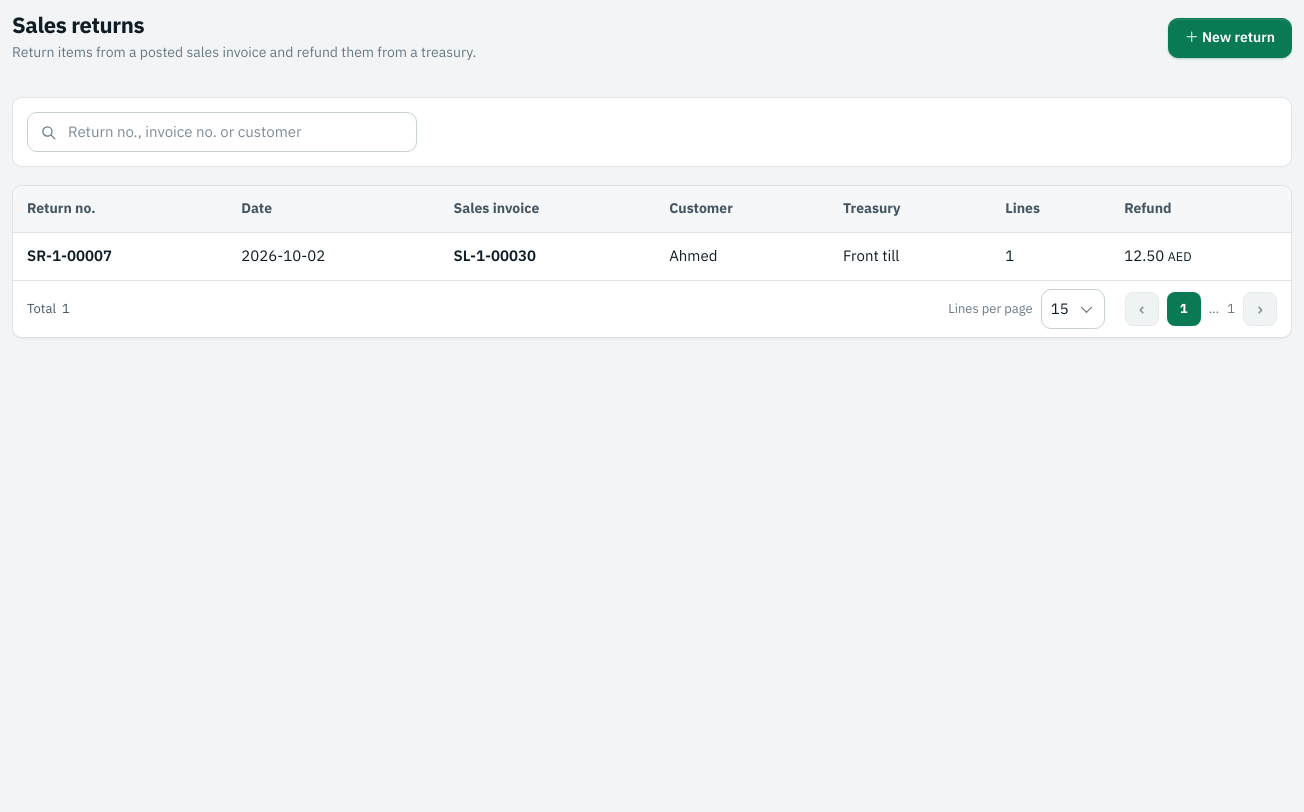
SalesReturnsPage › only offers treasuries in the invoice currency
The width and height of the screenshot is (1304, 812).
Click the button "＋ New return" at (1230, 38), box [1168,18,1292,58]
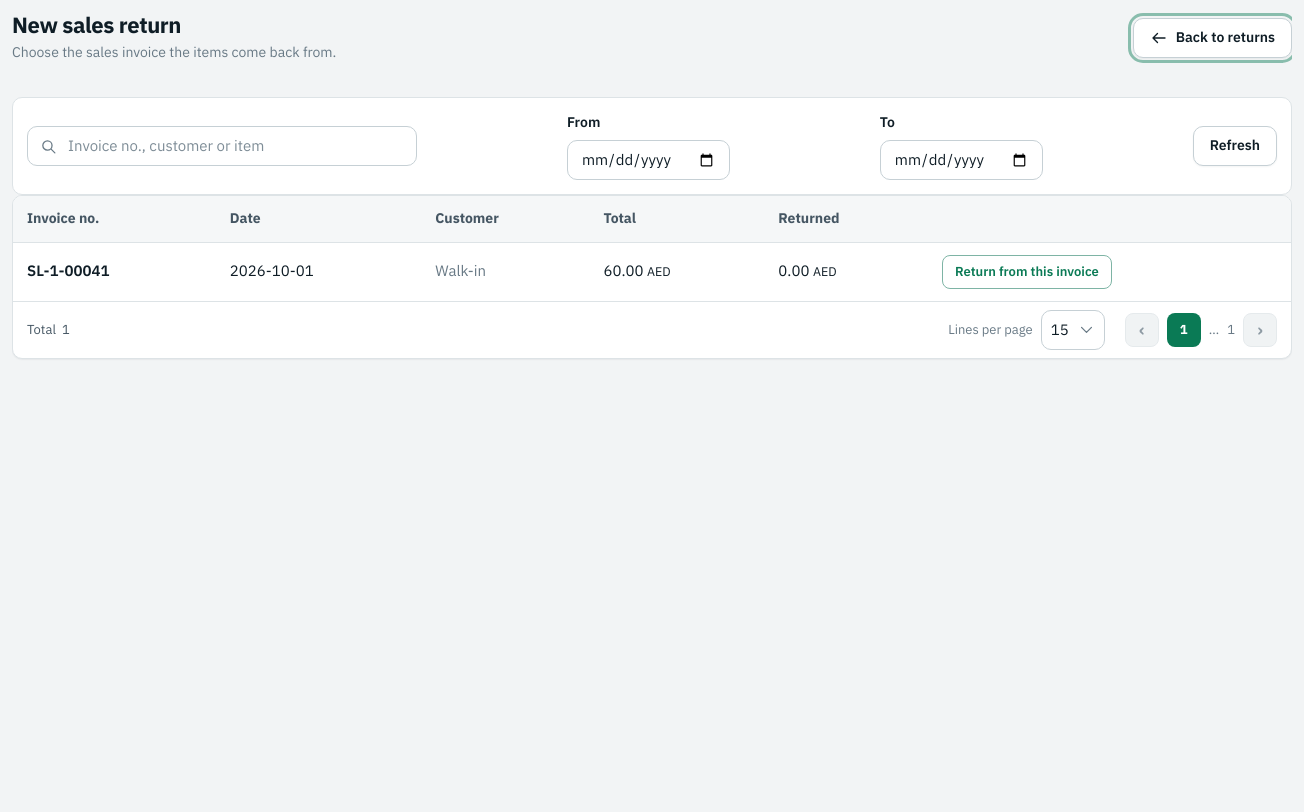
Click the button "Return from this invoice" at (1027, 272), box [942,255,1112,289]
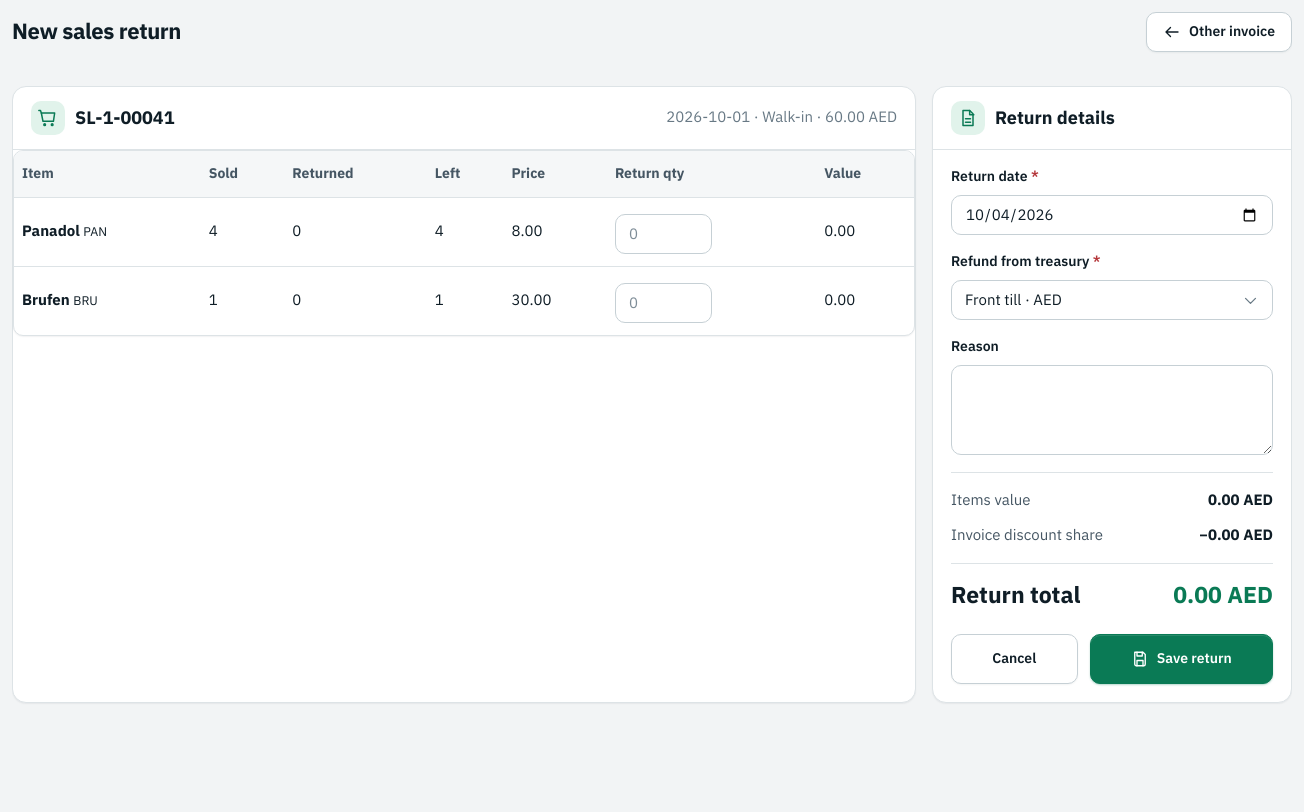
Expected: the heading "SL-1-00041" is shown, [75,104,174,132]
Click the button with aria-label "Refund from treasury" at (993, 300), box [951,280,1273,320]
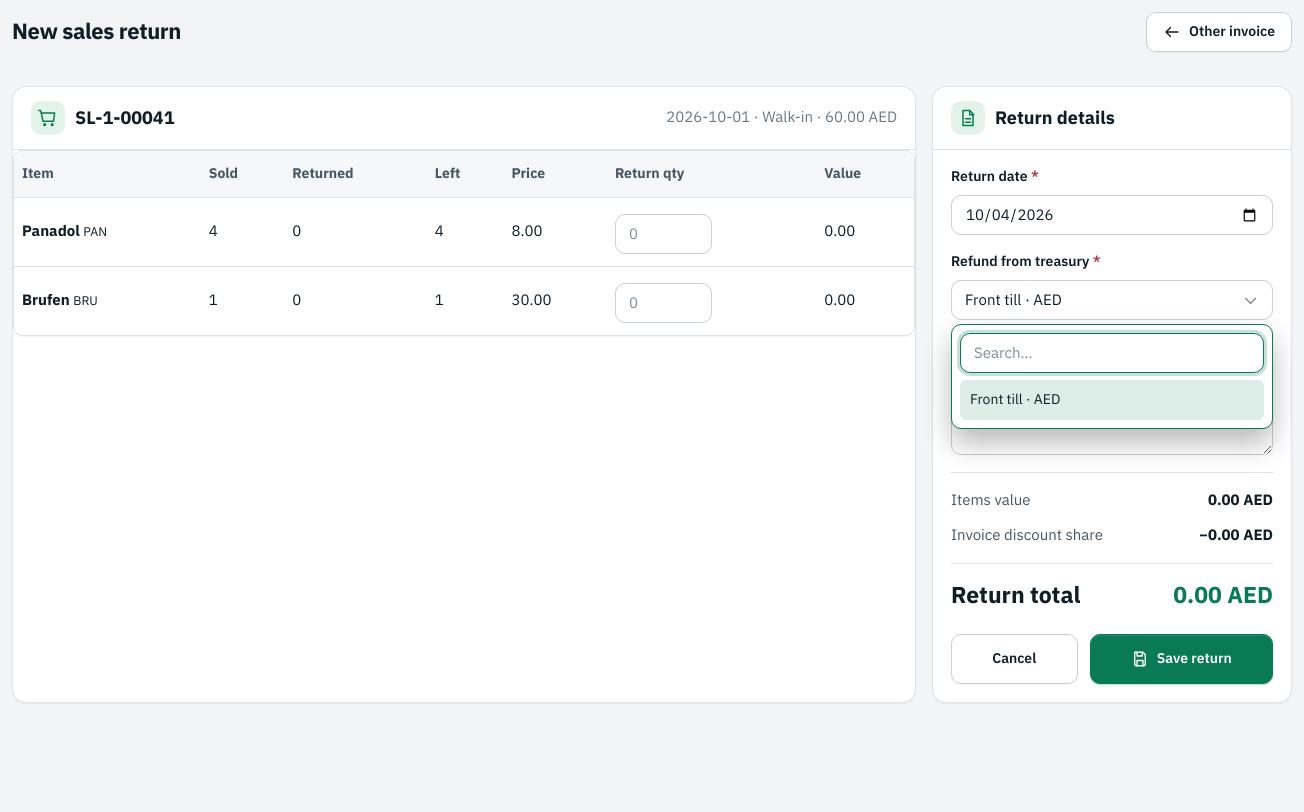
Expected: the option "Front till · AED" is shown, [960,380,1264,420]
